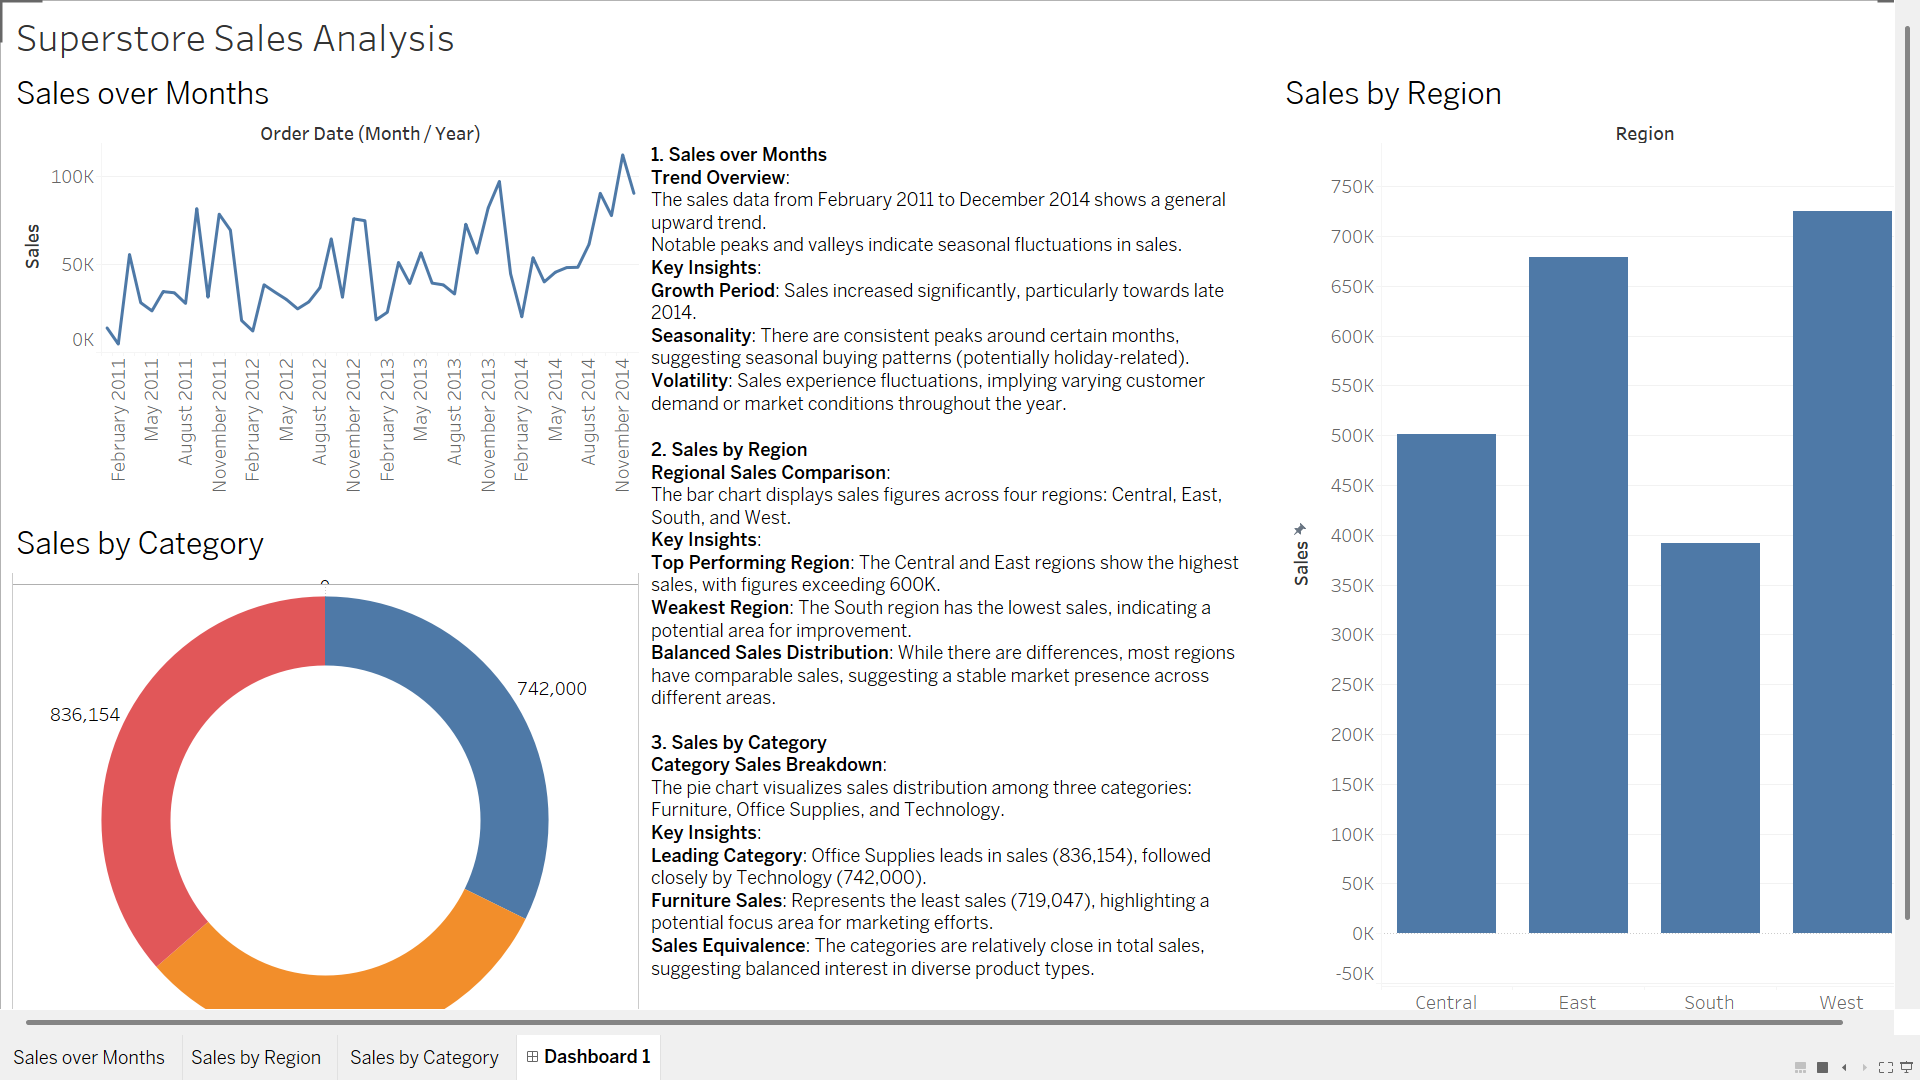

The dashboard page shown, as its layout file describes it:
{"tool":"tableau","page":{"name":"Dashboard 1","canvas":[1000,800],"ordinal":0},"visuals":[{"type":"title","box":[8,8,984,49]},{"type":"worksheet","title":" Sales over Months","mark":"Automatic","rows":["Sales"],"cols":["Order Date (Month / Year)"],"box":[8,57,523,329.1]},{"type":"worksheet","title":"Sales by Region","mark":"Automatic","rows":["Sales"],"cols":["Region"],"box":[531,57,461,735]},{"type":"worksheet","title":" Sales by Category","mark":"Pie","cols":["Calculation_1274518700160221184","Calculation_1274518700160458753"],"box":[8,386.1,523,405.9]}]}

Visuals, with their boxes on the page's 1000x800 design canvas (x1, y1, x2, y2). These are canvas units, not pixel positions in the 1920x1080 screenshot, which may show the page scaled, cropped or inside an application window:
title: 8/8/992/57
" Sales over Months" worksheet: 8/57/531/386
"Sales by Region" worksheet: 531/57/992/792
" Sales by Category" worksheet (Pie marks): 8/386/531/792
